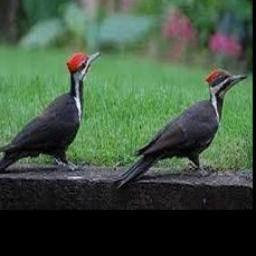Woodpecker: (114, 68, 248, 188), (0, 51, 102, 172)
